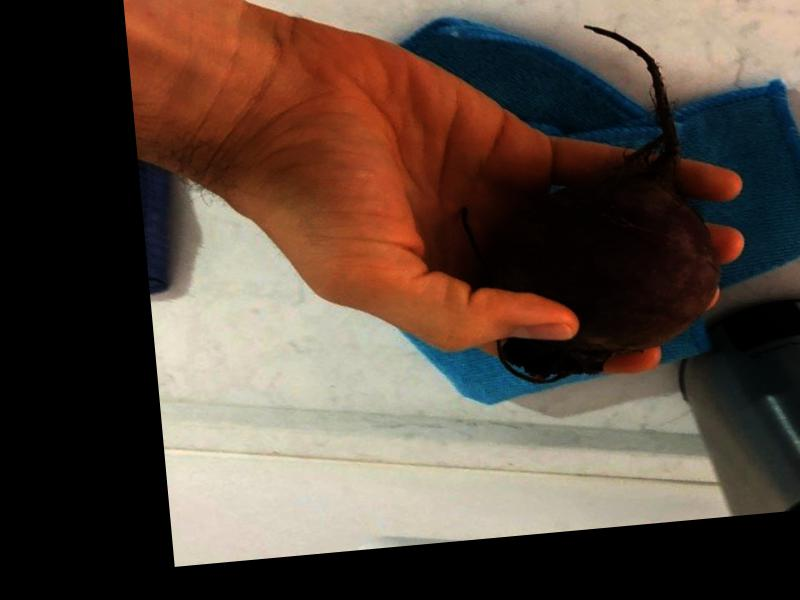Beet: (447, 15, 728, 388)
